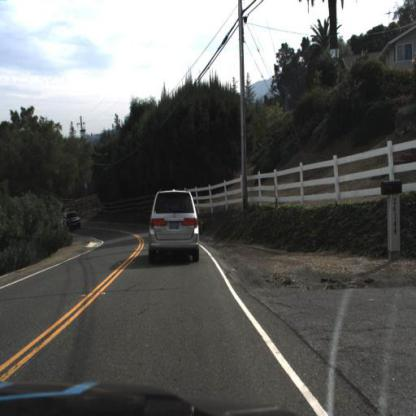car: (146, 189, 200, 264), (60, 207, 85, 233)
